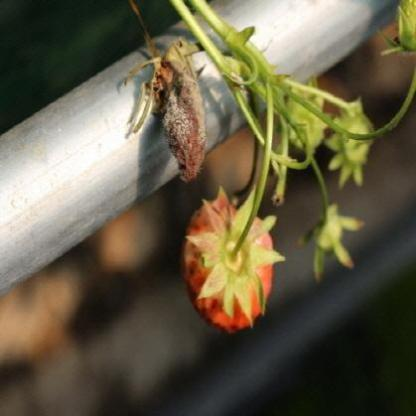Strawberry_Gray_Mold: (132, 38, 206, 183)
